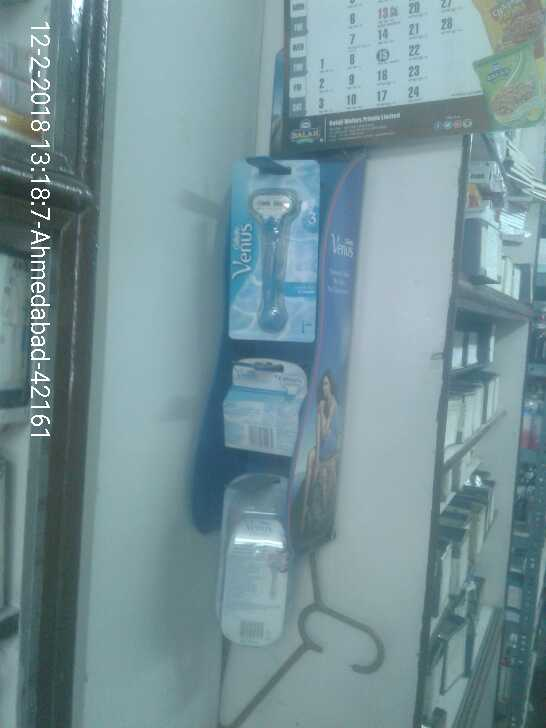venus: (223, 162, 328, 343)
